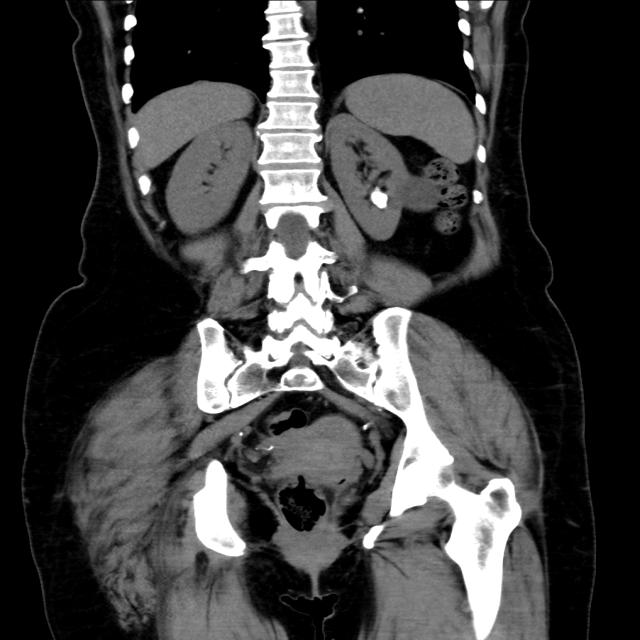kidneystone: (370, 188, 389, 209)
